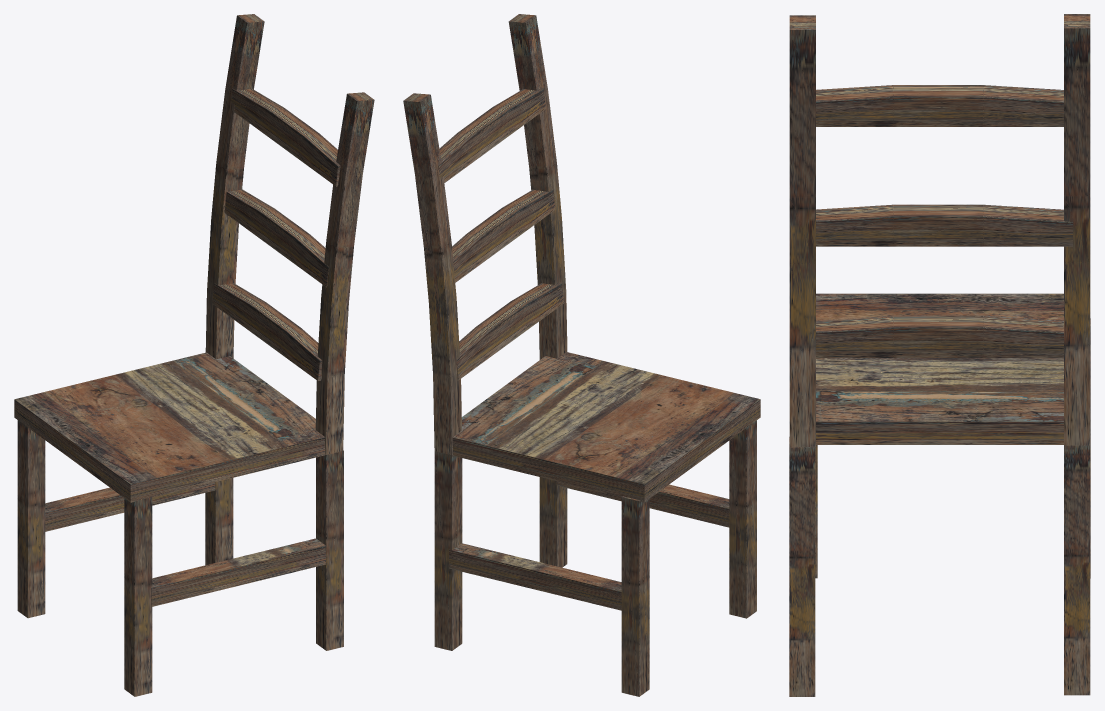
Rendered from Chair.fbx.
3 renders of one model, left to right at view 1: azimuth 30°, elevation 25°; view 2: azimuth 150°, elevation 25°; view 3: azimuth 270°, elevation 25°, orthographic. The views are drawn at different scales.
Visible parts, largest first — view 1: Cube.008, Cube.007, Cube.006, Cube, Cube.002, Cube.001, Cube.005, Cube.009, Cube.011, Cube.010, Cube.004, Cube.003; view 2: Cube.008, Cube.006, Cube.007, Cube.002, Cube.003, Cube, Cube.004, Cube.009, Cube.011, Cube.010, Cube.005, Cube.001; view 3: Cube.008, Cube.007, Cube.006, Cube.010, Cube.009, Cube.011, Cube.003, Cube.001.
Boxes of the visible parts, x1,y1,x2,y2 form: Cube.008: [14, 352, 325, 502]; Cube.007: [315, 92, 374, 454]; Cube.006: [205, 14, 264, 359]; Cube: [124, 496, 152, 696]; Cube.002: [17, 420, 45, 618]; Cube.001: [316, 450, 343, 650]; Cube.005: [151, 538, 325, 606]; Cube.009: [212, 283, 322, 380]; Cube.011: [231, 88, 340, 186]; Cube.010: [224, 189, 328, 287]; Cube.004: [45, 482, 215, 531]; Cube.003: [205, 478, 233, 565]; Cube.008: [452, 352, 760, 502]; Cube.006: [403, 93, 461, 455]; Cube.007: [508, 14, 567, 359]; Cube.002: [621, 496, 649, 696]; Cube.003: [434, 451, 462, 650]; Cube: [729, 420, 756, 618]; Cube.004: [449, 543, 621, 610]; Cube.009: [456, 282, 564, 380]; Cube.011: [438, 88, 545, 182]; Cube.010: [452, 189, 555, 282]; Cube.005: [556, 481, 729, 527]; Cube.001: [539, 477, 567, 567]; Cube.008: [816, 293, 1063, 444]; Cube.007: [789, 15, 815, 447]; Cube.006: [1064, 14, 1090, 445]; Cube.010: [816, 204, 1072, 246]; Cube.009: [816, 315, 1063, 357]; Cube.011: [816, 85, 1063, 126]; Cube.003: [1064, 445, 1090, 695]; Cube.001: [789, 437, 815, 696].
Size of the model in its own units: 259 by 553 by 219.
Materials: 7 (7 with a texture image).
